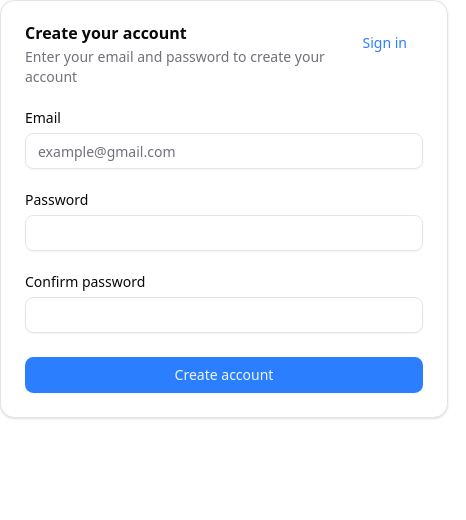
Scenario: SignUpForm › should display validation errors for invalid data
Step 1. Click the button "Create account" → click(224, 375), box top-left (25, 357), bottom-right (423, 393)
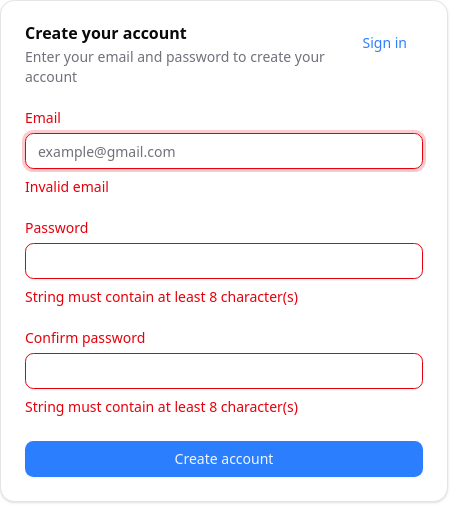
Result: the text "Invalid email" is shown at top-left (25, 177), bottom-right (109, 196)
Result: the text "String must contain at least 8 character(s)" is shown 2 times at top-left (25, 287), bottom-right (298, 306); top-left (25, 397), bottom-right (298, 416)
